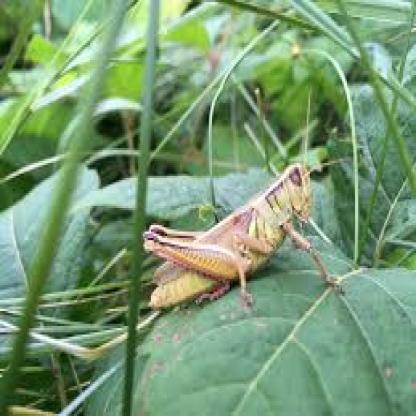grasshopper: (139, 151, 349, 326)
